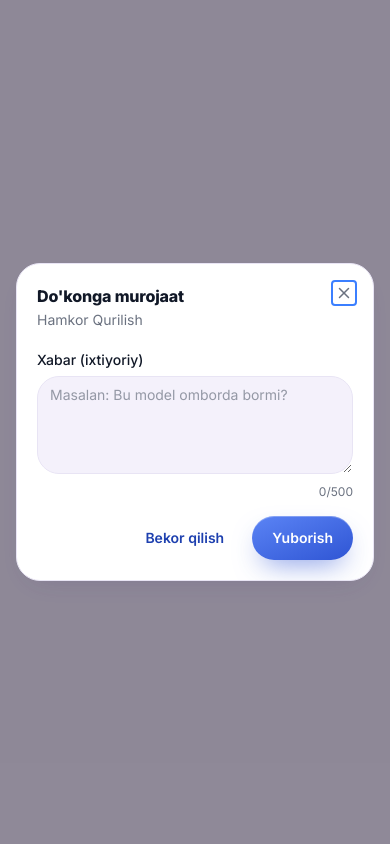
ShopInquiryDialog › shows the server's message when the daily limit is reached
Click the button "Yuborish": click(303, 538) [252,516,353,560]
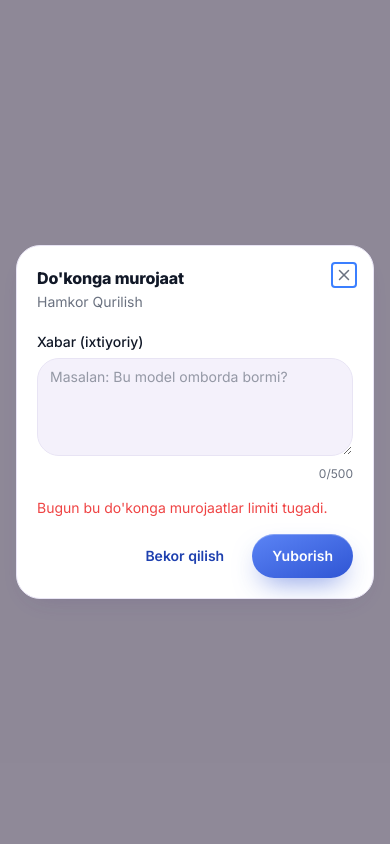
Expected: the message reads "Bugun bu do'konga murojaatlar limiti tugadi.", [37,499,328,516]
